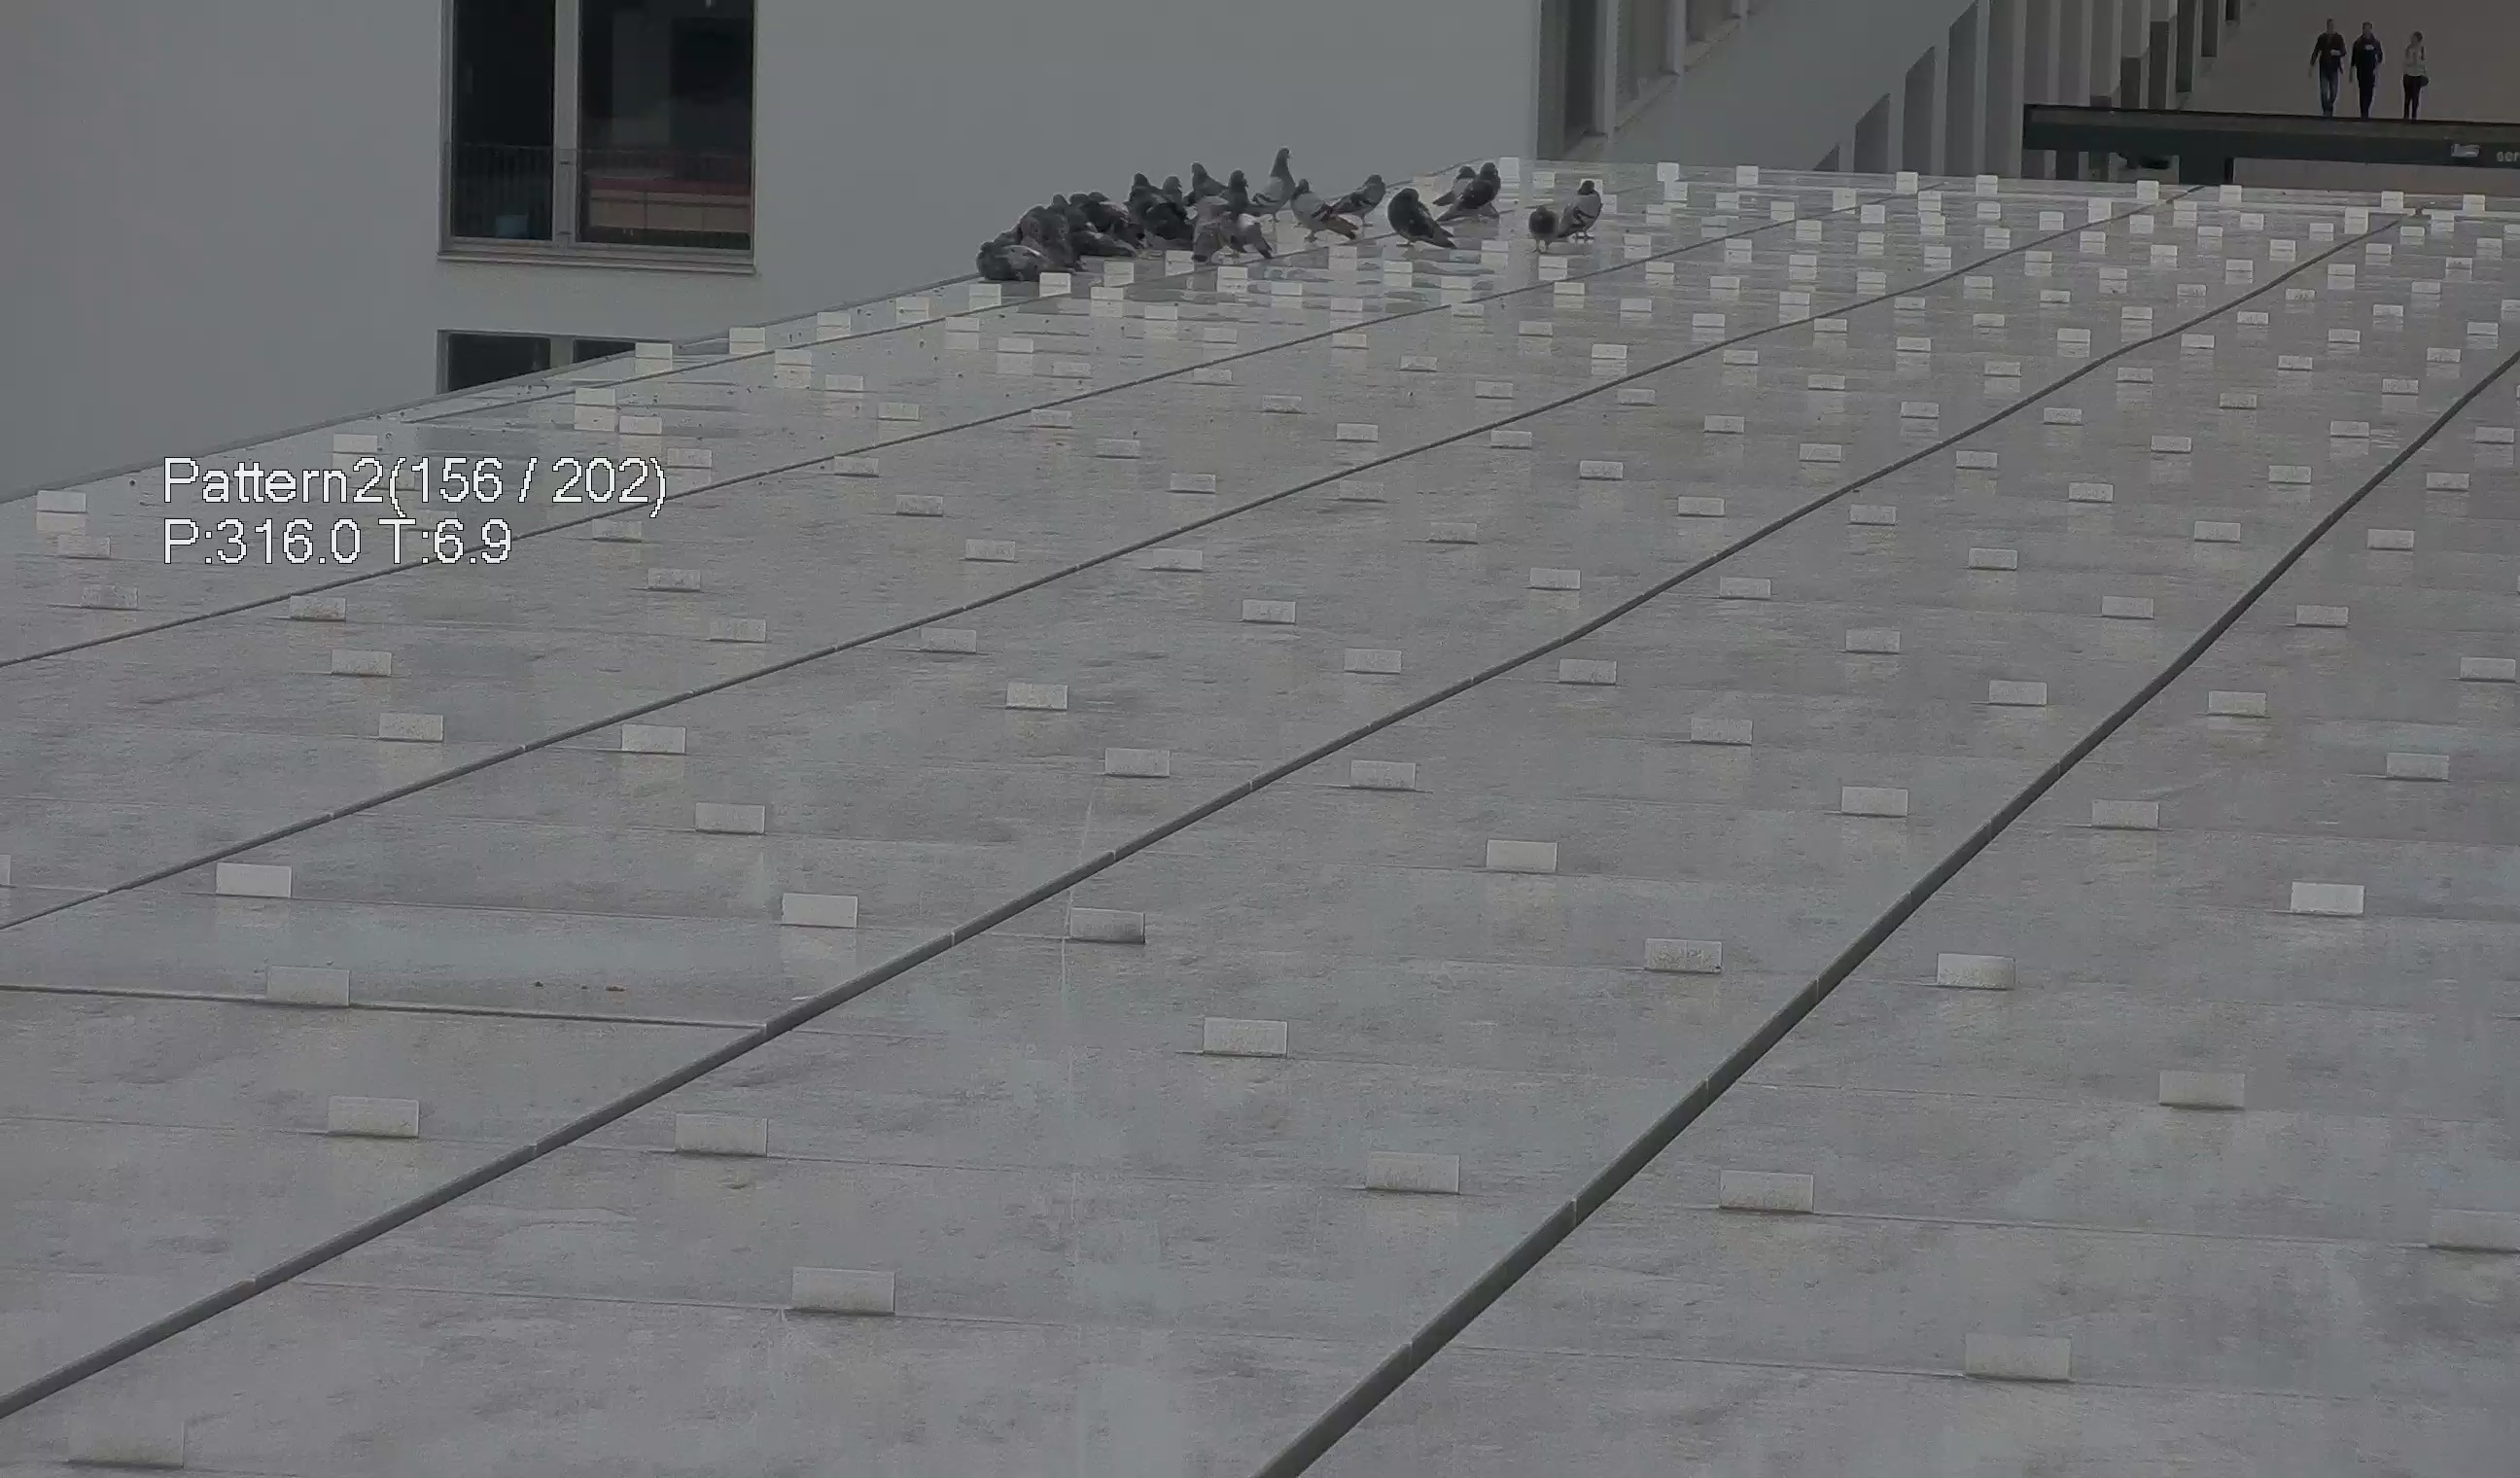Pigeon: (1368, 167, 1481, 245), (1287, 178, 1359, 246), (974, 241, 1074, 289), (1196, 201, 1266, 267), (1442, 158, 1505, 223), (1252, 146, 1300, 215), (1560, 178, 1606, 245), (1338, 169, 1389, 216), (1528, 206, 1560, 255), (1189, 164, 1227, 195), (1227, 167, 1250, 208), (1157, 174, 1189, 201), (1124, 172, 1157, 195)
